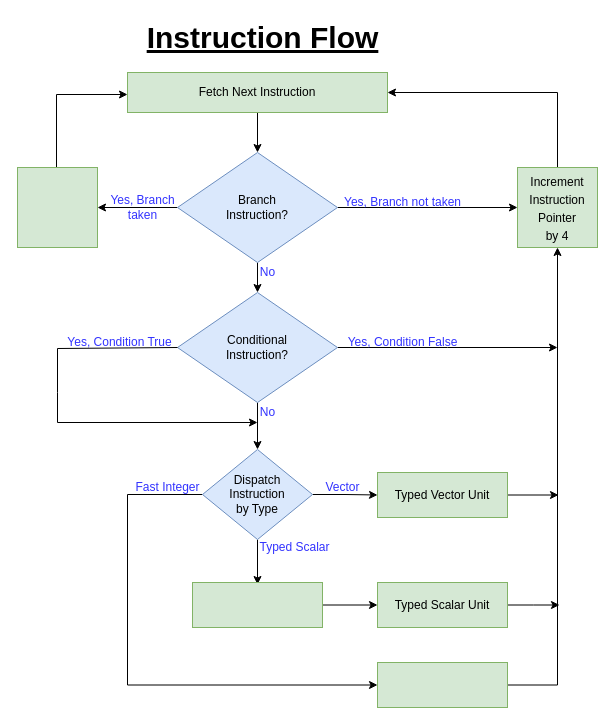
The diagram is 615 pixels wide and 725 high, and some of its shapes have lost their labels. The box of each missing label's shape, as (x1, y1, x2, y2) in pixels:
Caculate New Instruction Pointer: (16, 166, 98, 248)
Fast Integer Unit: (376, 662, 508, 708)
Reservation Stations: (192, 582, 322, 628)
